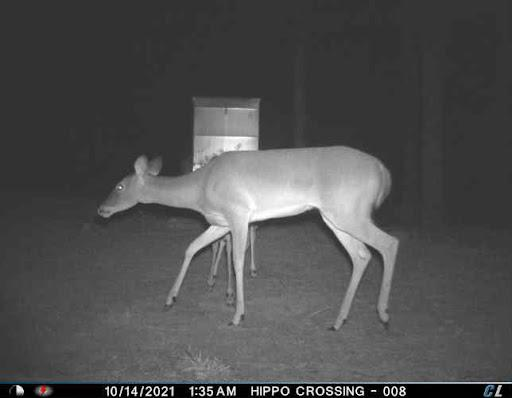Deer: (96, 142, 414, 336)
